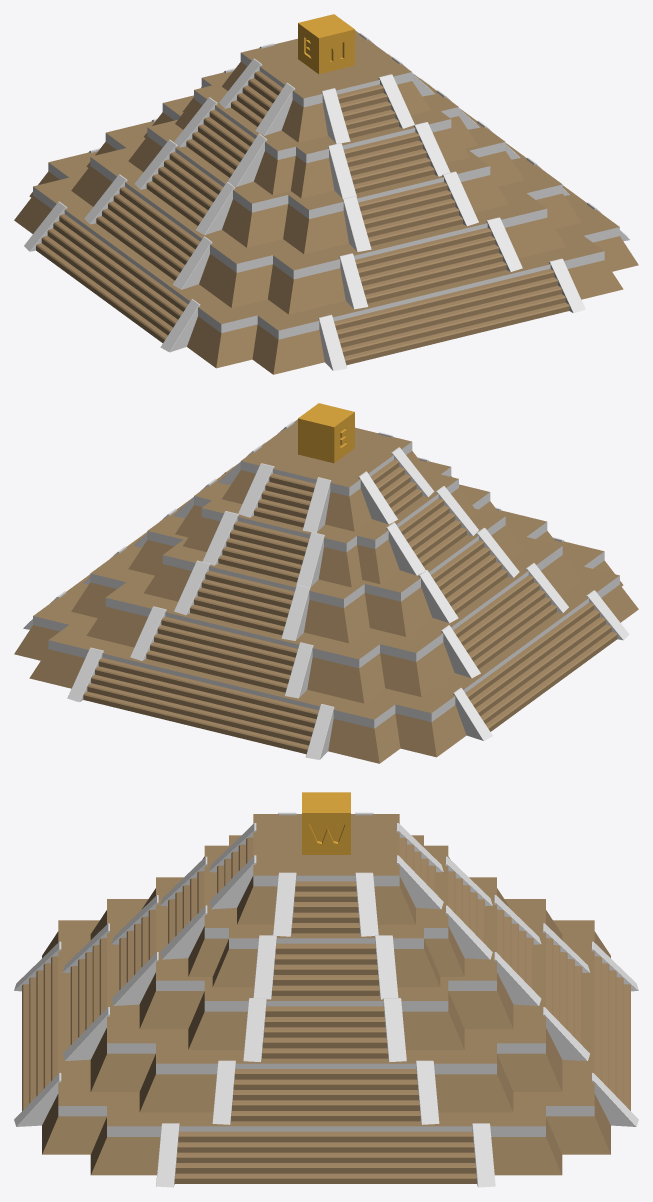
The model's file is piramide (2).fbx.
The picture shows the model from 3 angles, top to bottom: view 1: azimuth 30°, elevation 25°; view 2: azimuth 150°, elevation 25°; view 3: azimuth 270°, elevation 25°; orthographic projection. The views are drawn at different scales.
Parts seen in each view (by area): view 1: Piramide_Base, Piramide_2, Piramide_3, Piramide_4, Piramide_5, Piramide_Topo; view 2: Piramide_Base, Piramide_2, Piramide_3, Piramide_4, Piramide_5, Piramide_Topo; view 3: Piramide_Base, Piramide_2, Piramide_3, Piramide_4, Piramide_5, Piramide_Topo.
Boxes of the visible parts, box(x1,y1,x2,y2) form: Piramide_Base: box(14, 108, 638, 374); Piramide_2: box(71, 118, 581, 314); Piramide_3: box(128, 78, 524, 254); Piramide_4: box(174, 53, 479, 198); Piramide_5: box(219, 30, 434, 143); Piramide_Topo: box(298, 14, 354, 74); Piramide_Base: box(14, 497, 638, 763); Piramide_2: box(71, 507, 581, 703); Piramide_3: box(128, 466, 524, 643); Piramide_4: box(173, 442, 478, 587); Piramide_5: box(218, 419, 434, 532); Piramide_Topo: box(298, 403, 354, 463); Piramide_Base: box(14, 920, 638, 1187); Piramide_2: box(63, 899, 589, 1124); Piramide_3: box(111, 877, 541, 1061); Piramide_4: box(160, 835, 492, 999); Piramide_5: box(209, 812, 443, 936); Piramide_Topo: box(302, 792, 350, 854).
Bounding box in the file's own units: 4039 × 1800 × 4039.
